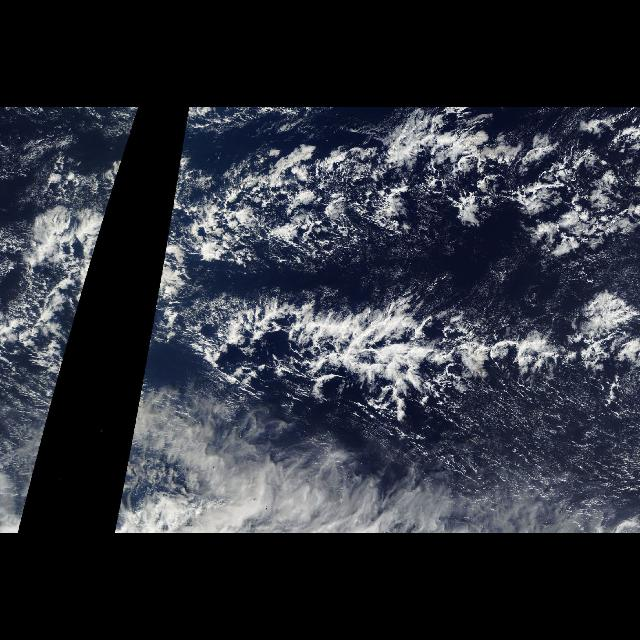Fish: (139, 116, 639, 430), (33, 173, 119, 387)
